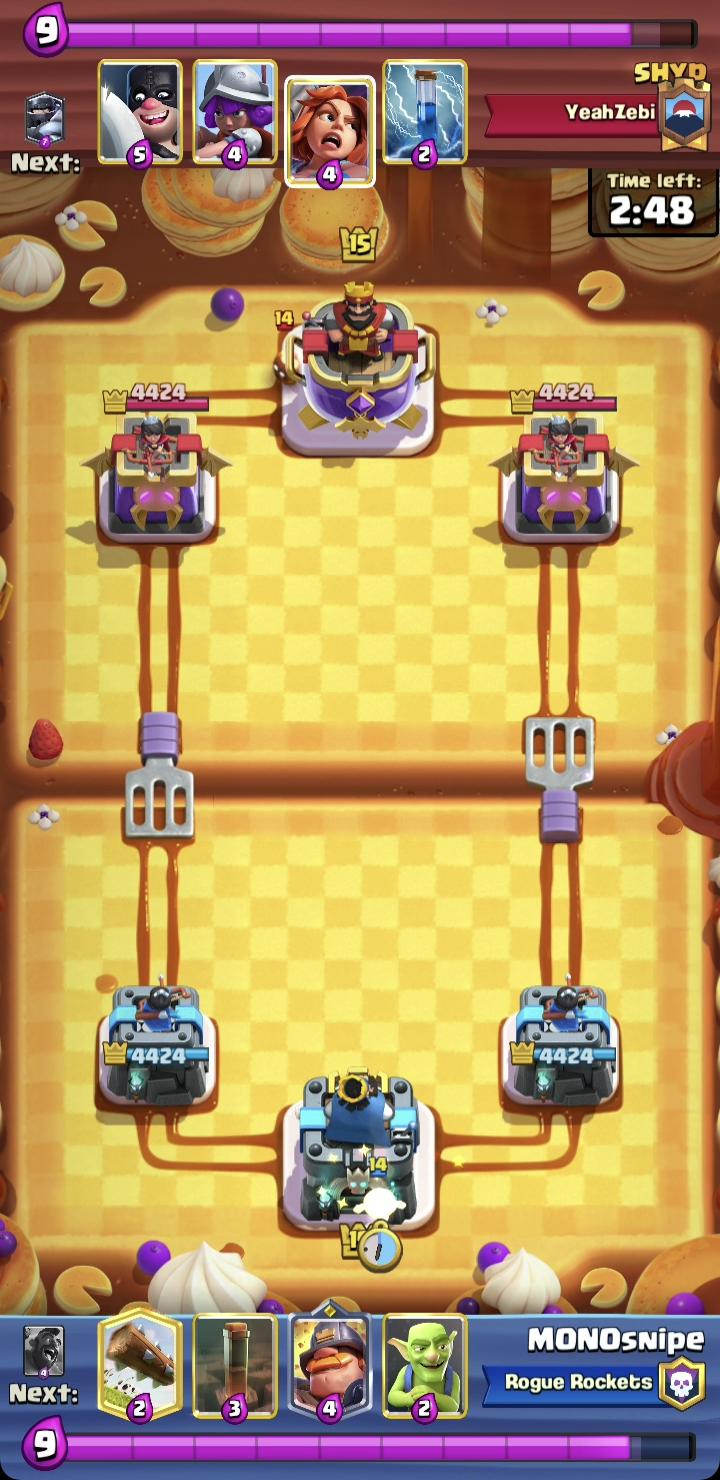ally_ice_spirit: (354, 1156, 407, 1230)
enemy_fire_spirit: (271, 309, 301, 385)
